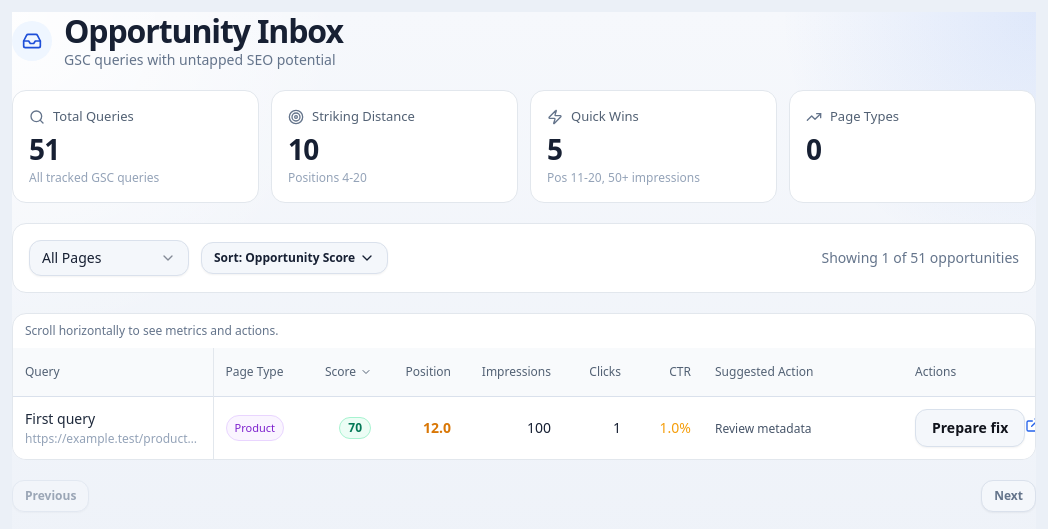
Test: keeps Previous available on the last page and returns to the first page
Expected: the text "First query" is shown, [25, 409, 95, 428]
Click the button "Next". click: (1009, 496)
box: [981, 480, 1036, 512]
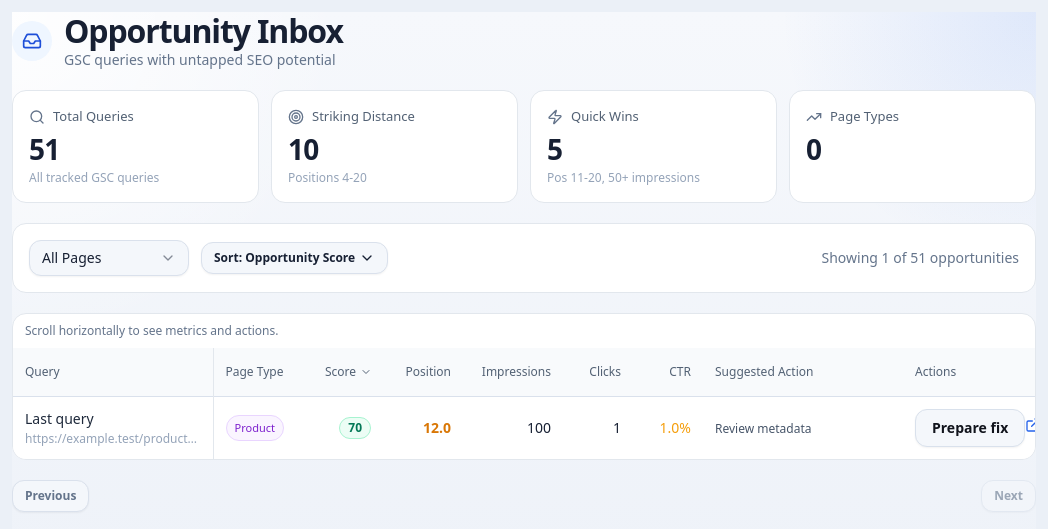
Now the text "Last query" is shown, box [25, 409, 94, 428]
Now the button "Next" is disabled, box [981, 480, 1036, 512]
Click the button "Previous". click: (51, 496)
box: [12, 480, 89, 512]
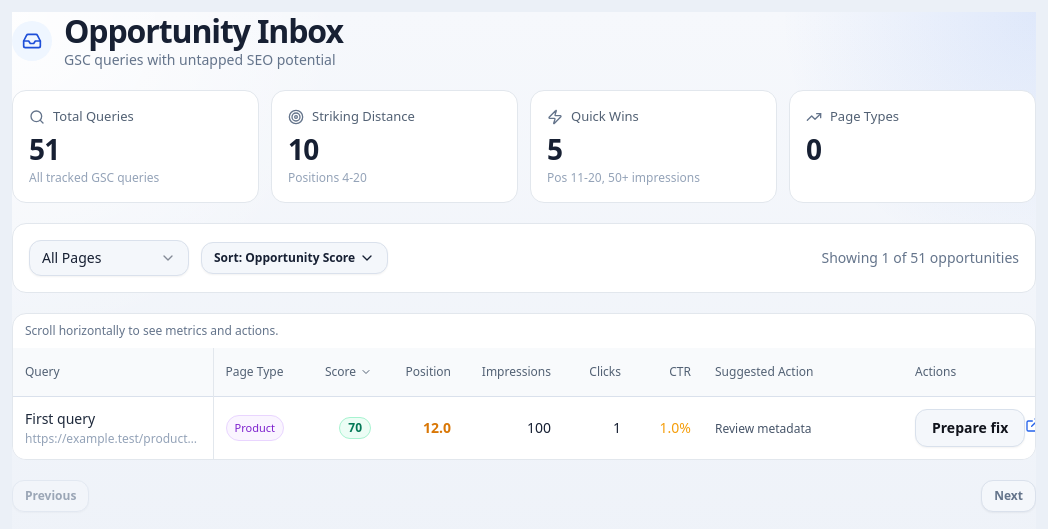
Now the text "First query" is shown, box [25, 409, 95, 428]
